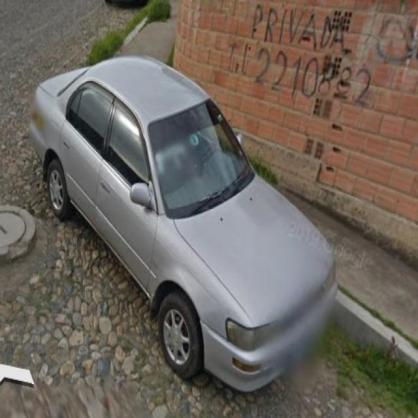car: (30, 55, 341, 402)
